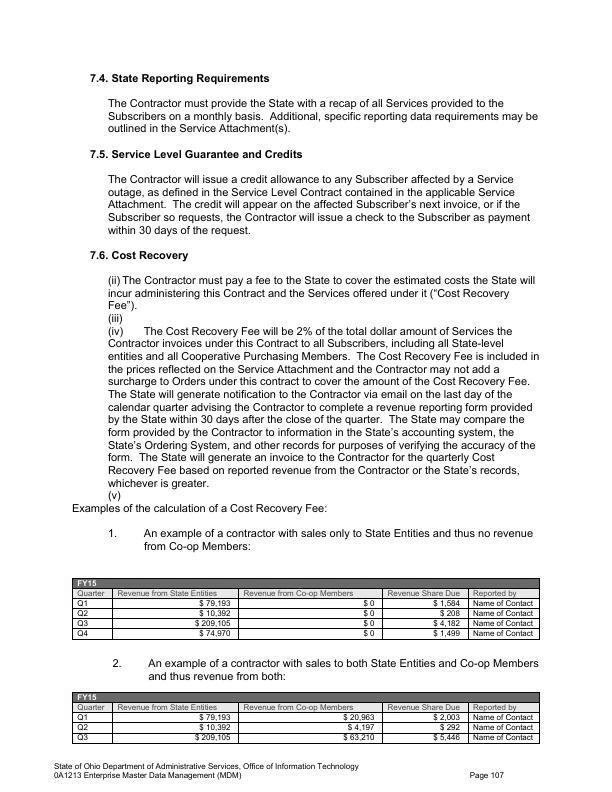table: (67, 574, 545, 645), (68, 689, 547, 748)
text: (88, 247, 543, 502), (85, 146, 537, 239), (87, 68, 546, 138), (70, 504, 549, 561), (110, 655, 543, 684), (51, 759, 363, 786), (461, 767, 514, 786)
